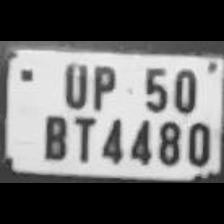0: (182, 116, 214, 168), (167, 64, 199, 114)
4: (96, 113, 124, 164), (126, 113, 152, 166)
5: (138, 64, 168, 110)
8: (152, 116, 182, 168)
B: (39, 110, 69, 160)
P: (86, 61, 118, 111)
T: (68, 112, 98, 162)
U: (57, 59, 89, 107)
